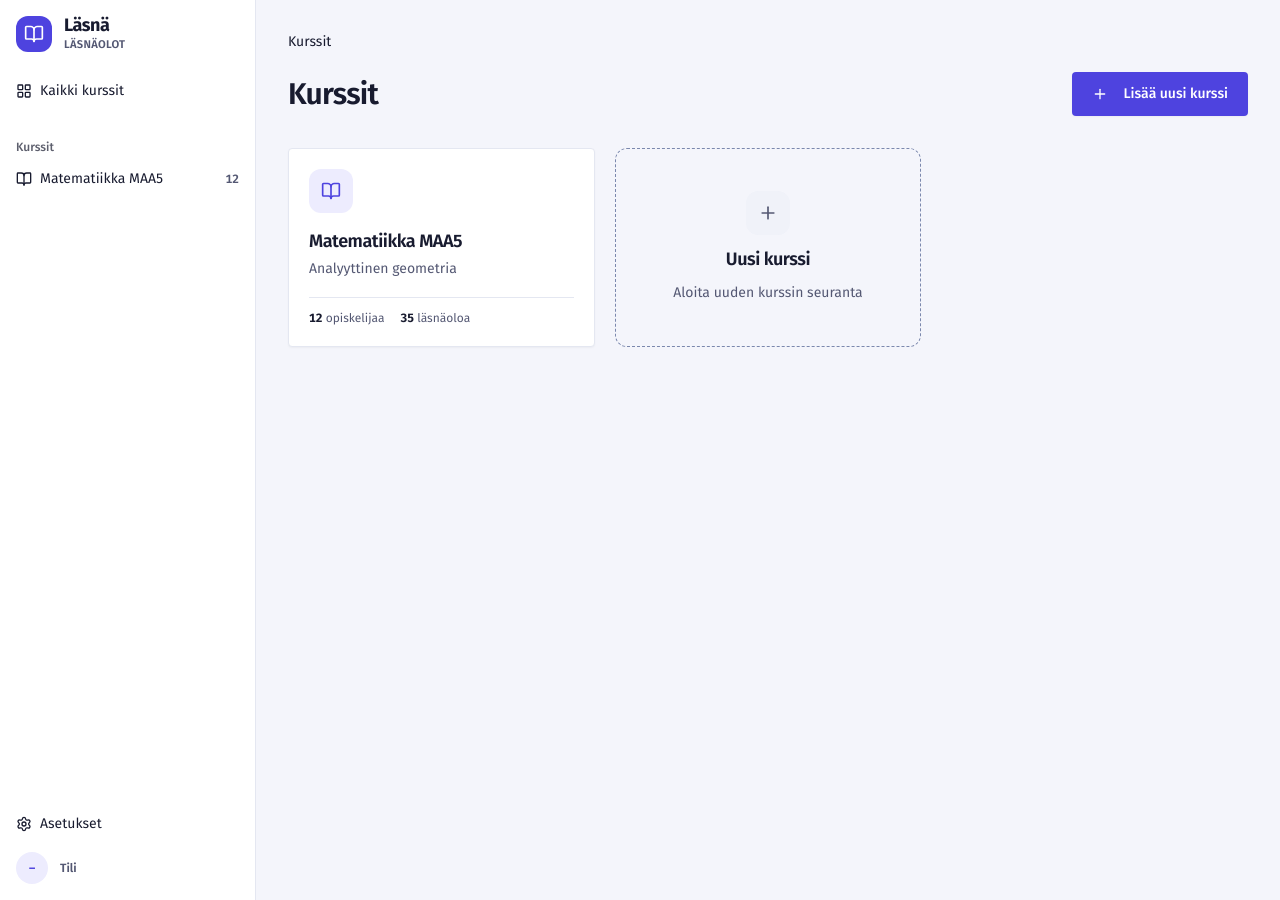
Test: the dashboard with courses on it › says it is working while the course is being created, and refuses a second submit
Click the button "Lisää uusi kurssi" at (1160, 94), box [1072, 72, 1248, 116]
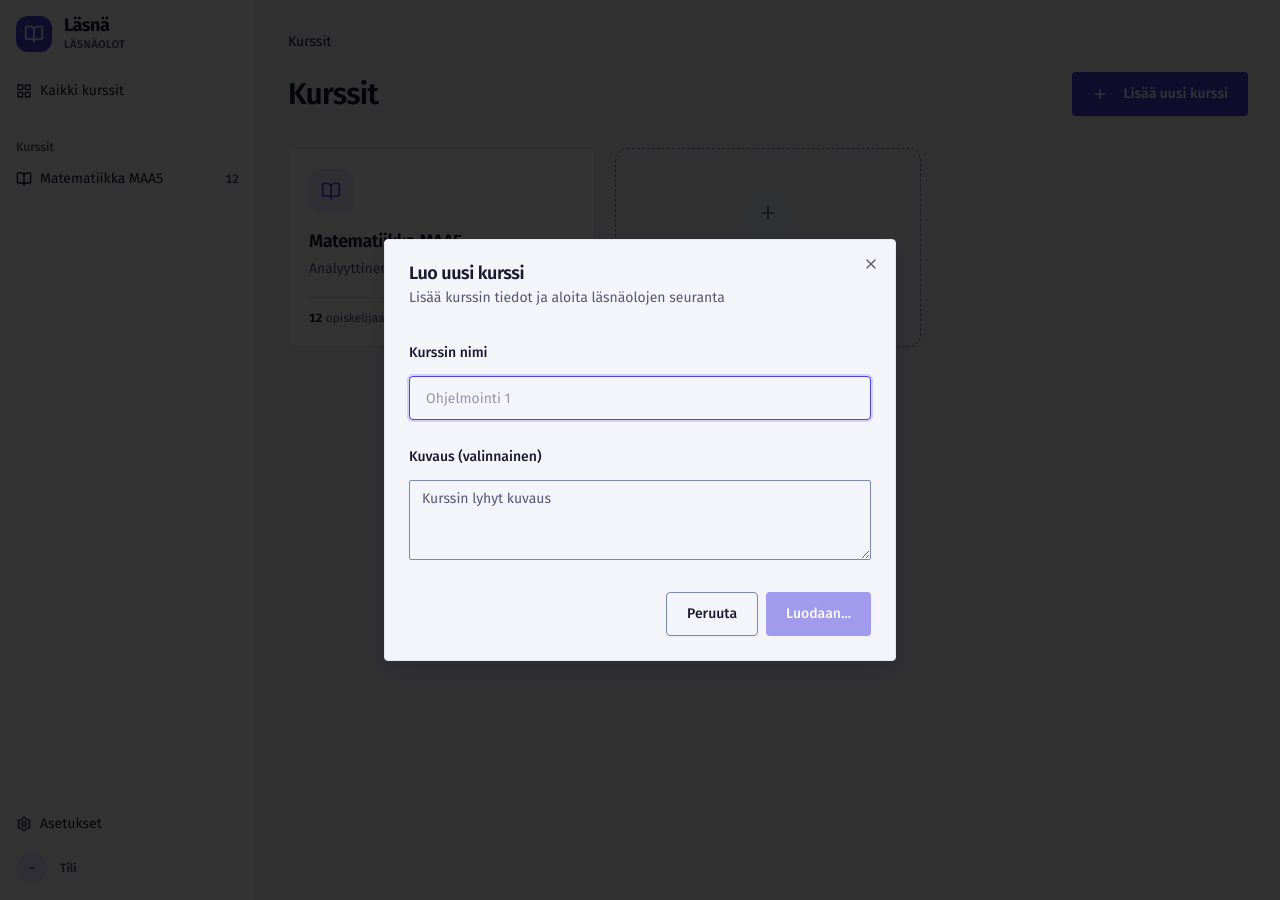
Result: the button "Luodaan..." is disabled at [766, 592, 871, 636]
